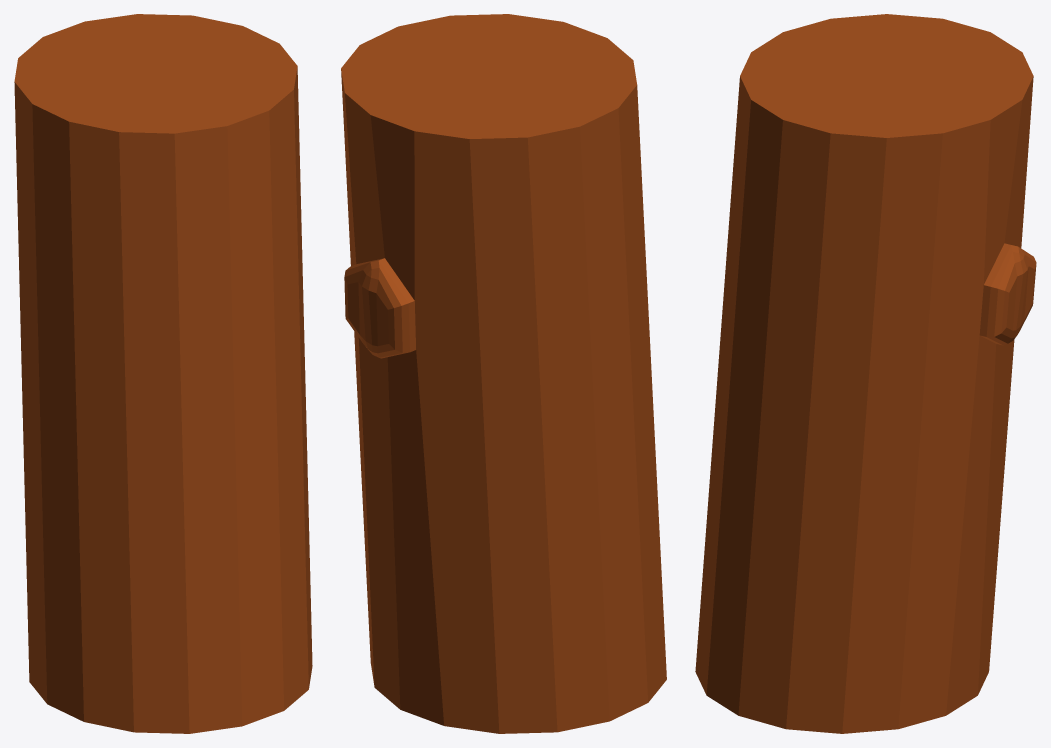
The model's file is agac_govde.fbx.
3 views of the same model, side by side, from view 1: azimuth 30°, elevation 25°; view 2: azimuth 150°, elevation 25°; view 3: azimuth 270°, elevation 25° (orthographic). The views are drawn at different scales.
Parts seen in each view (by area): view 1: Cylinder.011; view 2: Cylinder.011; view 3: Cylinder.011.
Part boxes in pixels (box(x1,y1,x2,y2)): Cylinder.011: box(14, 14, 312, 733); Cylinder.011: box(341, 14, 666, 733); Cylinder.011: box(695, 14, 1036, 733).
Bounding box in the file's own units: 205 × 450 × 232.
